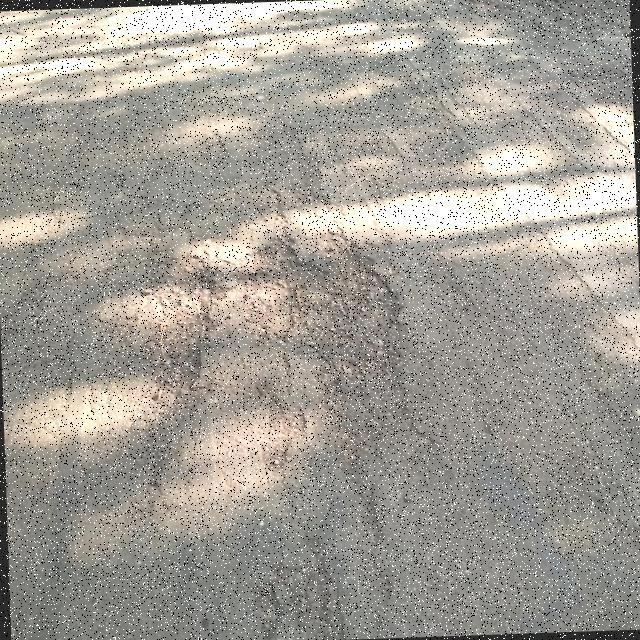Pothole: (140, 229, 410, 477)
